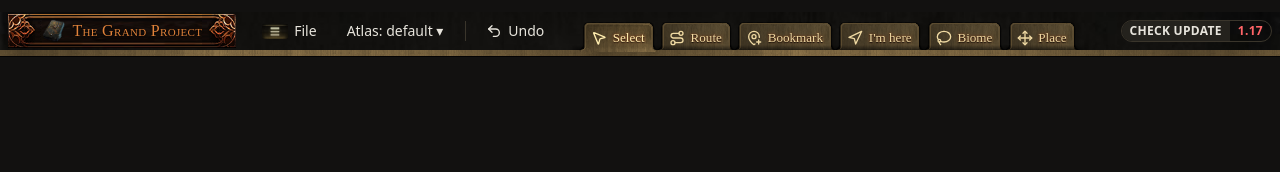
Test: TopBar › the map tools: a tab starts its tool, lit while on; clicked again (or Select) it ends (user's design)
This screenshot has width=1280, height=172.
Later steps or results of the test are not shown.
Click the button "Biome" at (964, 37), box [923,22,1005,52]
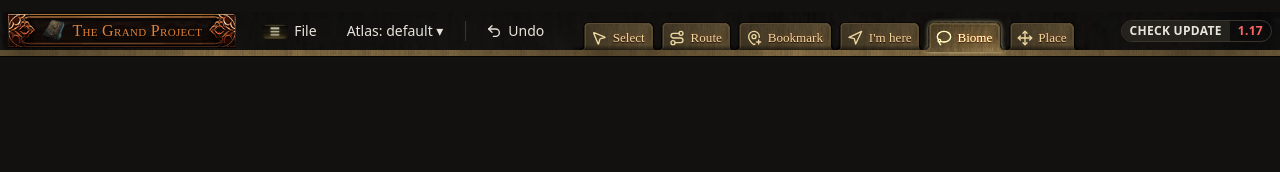
Now the button "Biome" is pressed, box [923,22,1005,52]
Now the button "Select" is not pressed, box [578,22,658,52]
